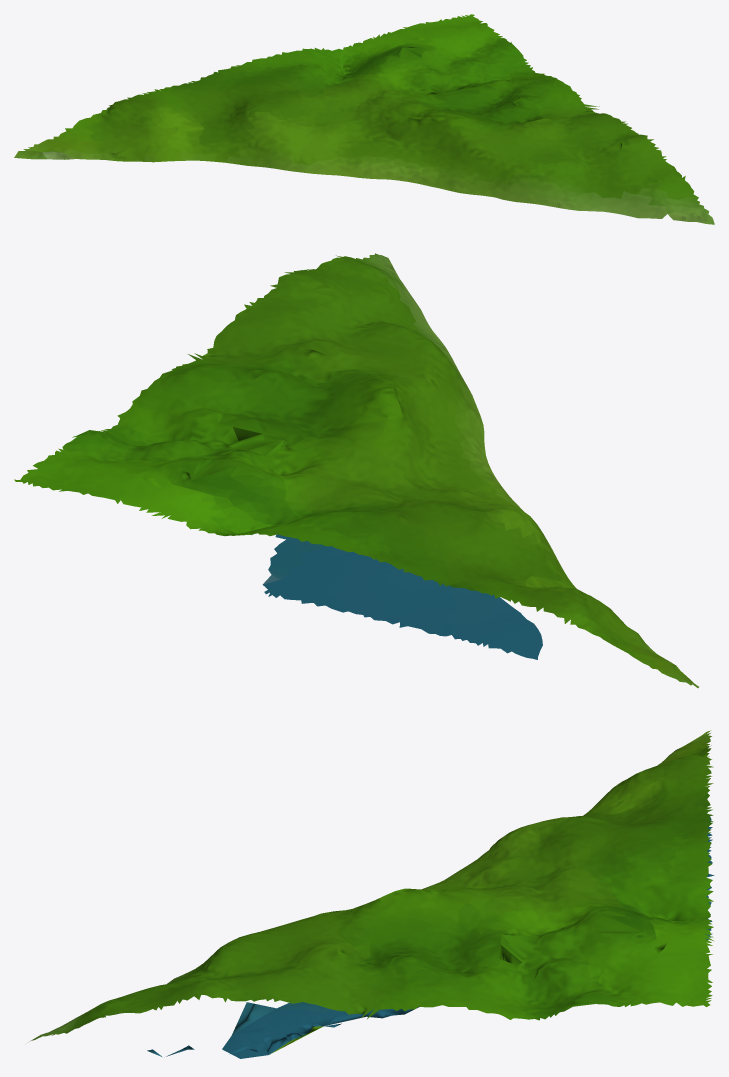
Rendered from chunk_0_3_LOD0.glb.
3 views of the same model, one above another, from view 1: azimuth 30°, elevation 25°; view 2: azimuth 150°, elevation 25°; view 3: azimuth 270°, elevation 25° (orthographic). The views are drawn at different scales.
Visible parts, largest first — view 1: chunk_0_3_LOD0; view 2: chunk_0_3_LOD0; view 3: chunk_0_3_LOD0.
Part boxes in pixels (x1,y1,x2,y2): chunk_0_3_LOD0: [14, 14, 714, 224]; chunk_0_3_LOD0: [14, 253, 698, 687]; chunk_0_3_LOD0: [29, 730, 714, 1058].
Size of the model in its own units: 73.3 by 6.9 by 66.09.
Materials: 1 (1 with a texture image).
